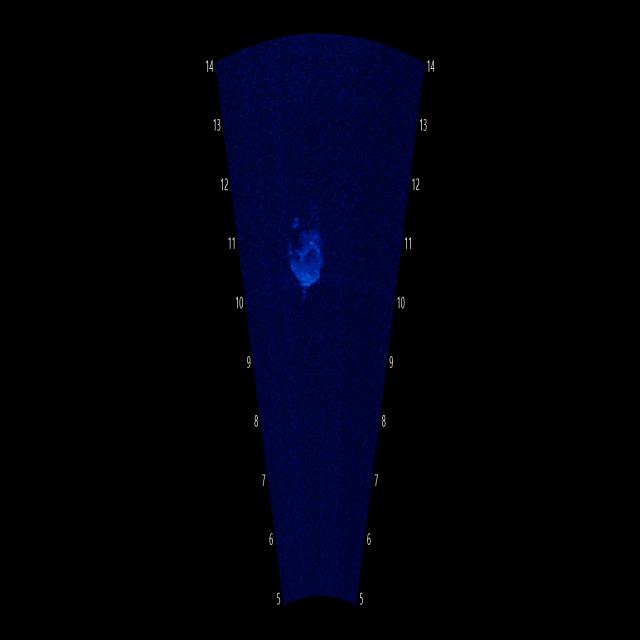circle: (287, 193, 335, 305)
